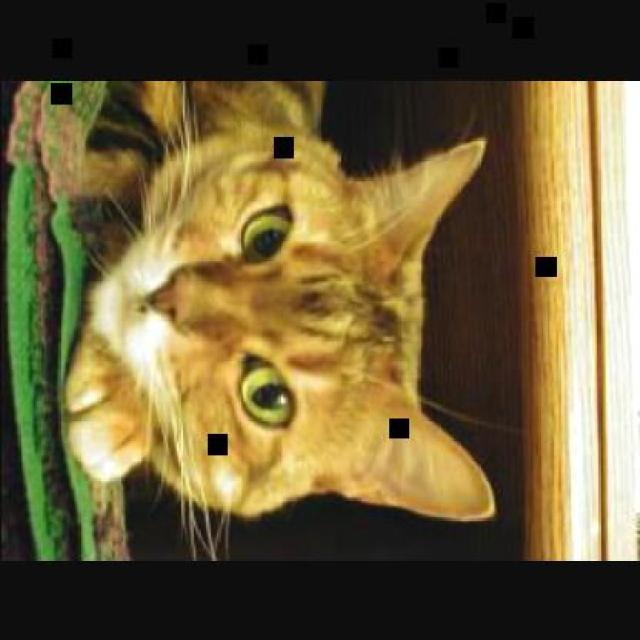unauthorized: (55, 77, 500, 558)
